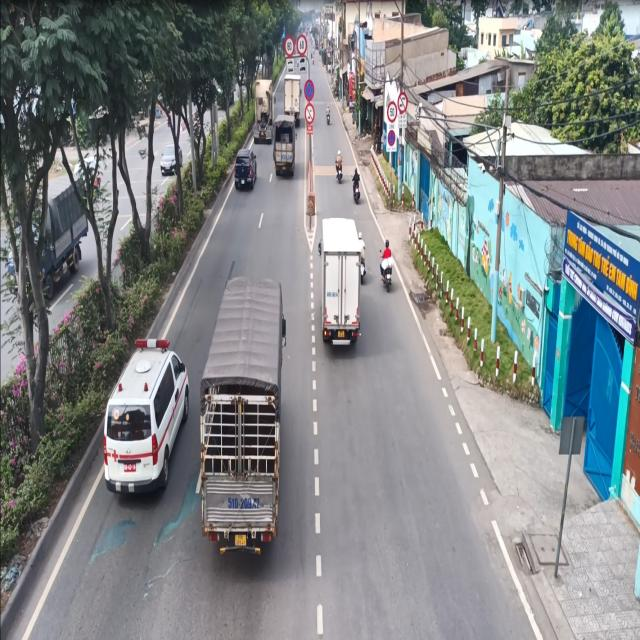car: (103, 326, 191, 504), (232, 141, 258, 197)
motor: (379, 232, 398, 298), (351, 165, 362, 208), (334, 149, 344, 186)
truck: (200, 256, 287, 572), (316, 212, 368, 354), (271, 112, 296, 182)
